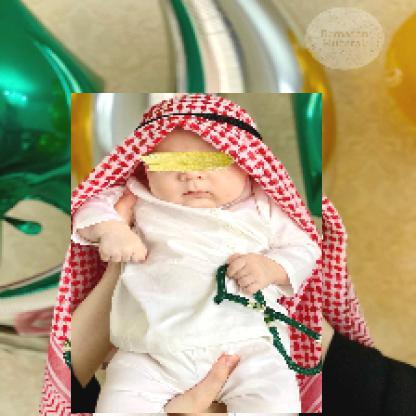child: (72, 94, 324, 415)
